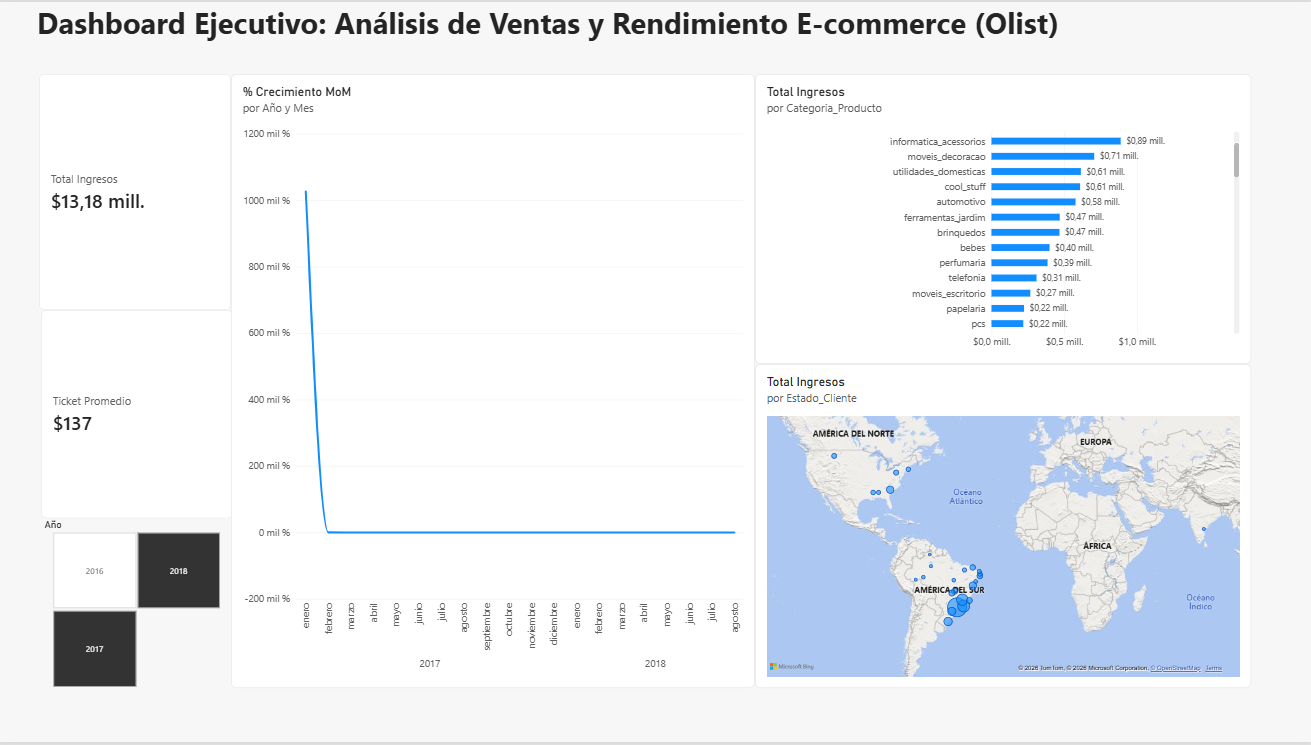

What the dashboard file says about the page in this screenshot:
{"tool":"powerbi","page":{"name":"Página 1","canvas":[1920,1080],"ordinal":0},"visuals":[{"type":"cardVisual","fields":{"Data":["_Medidas.Total Ingresos"]},"box":[61.3,105,280.1,344.3],"z":0},{"type":"cardVisual","fields":{"Data":["_Medidas.Ticket Promedio"]},"box":[64.2,449.4,280.1,304.9],"z":1000},{"type":"slicer","fields":{"Values":["Calendario.Año"]},"box":[61.3,754.3,283,246.6],"z":1001},{"type":"lineChart","fields":{"Category":["Calendario.Año","Calendario.Mes"],"Y":["_Medidas.% Crecimiento MoM"]},"box":[341.4,105,764.5,895.8],"z":1002},{"type":"clusteredBarChart","fields":{"Category":["vw_Ventas_Ecommerce.Categoria_Producto"],"Y":["_Medidas.Total Ingresos"]},"box":[1105.9,105,723.6,423.1],"z":1003},{"type":"textbox","box":[58.8,0,1531.2,105],"z":1005},{"type":"map","fields":{"Category":["vw_Ventas_Ecommerce.Estado_Cliente"],"Size":["_Medidas.Total Ingresos"]},"box":[1105.9,528.1,723.6,472.7],"z":1006}]}

Visuals, with their boxes in screenshot pixels (x1, y1, x2, y2), scaled from the page's 1920x1080 canvas onto the 1311x745 screenshot:
cardVisual - _Medidas.Total Ingresos: <box>42,72,233,310</box>
cardVisual - _Medidas.Ticket Promedio: <box>44,310,235,520</box>
slicer - Calendario.Año: <box>42,520,235,690</box>
lineChart - Calendario.Año x Calendario.Mes: <box>233,72,755,690</box>
clusteredBarChart - vw_Ventas_Ecommerce.Categoria_Producto x _Medidas.Total Ingresos: <box>755,72,1249,364</box>
textbox: <box>40,0,1086,72</box>
map - vw_Ventas_Ecommerce.Estado_Cliente x _Medidas.Total Ingresos: <box>755,364,1249,690</box>
